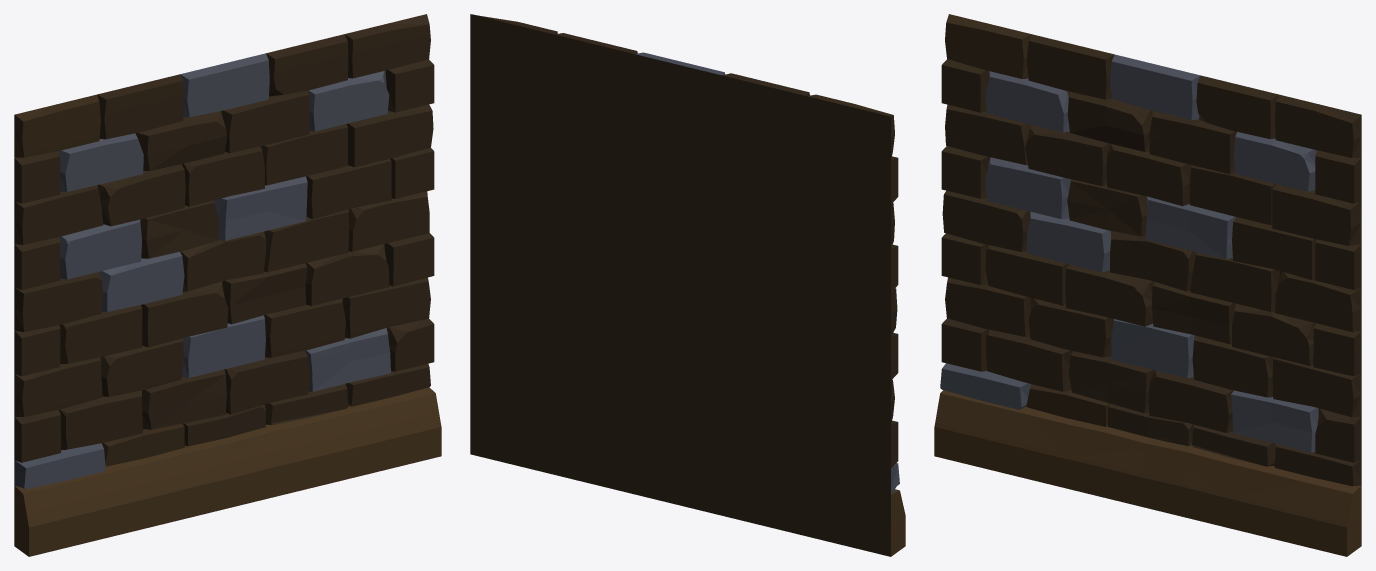
File: Wall_29.fbx
3 views of the same model, side by side, from view 1: azimuth 30°, elevation 25°; view 2: azimuth 150°, elevation 25°; view 3: azimuth 330°, elevation 25° (orthographic).
Parts seen in each view (by area): view 1: Wall_29; view 2: Wall_29; view 3: Wall_29.
Part boxes in pixels (left/top/right/bottom): Wall_29: left=14, top=14, right=441, bottom=556; Wall_29: left=470, top=14, right=905, bottom=556; Wall_29: left=934, top=14, right=1361, bottom=556.
Size of the model in its own units: 4 by 4 by 0.2441.
